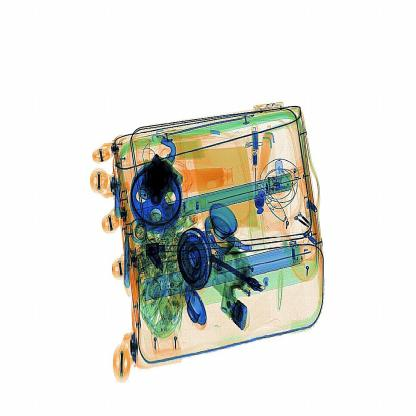scissors: (244, 276, 267, 297)
